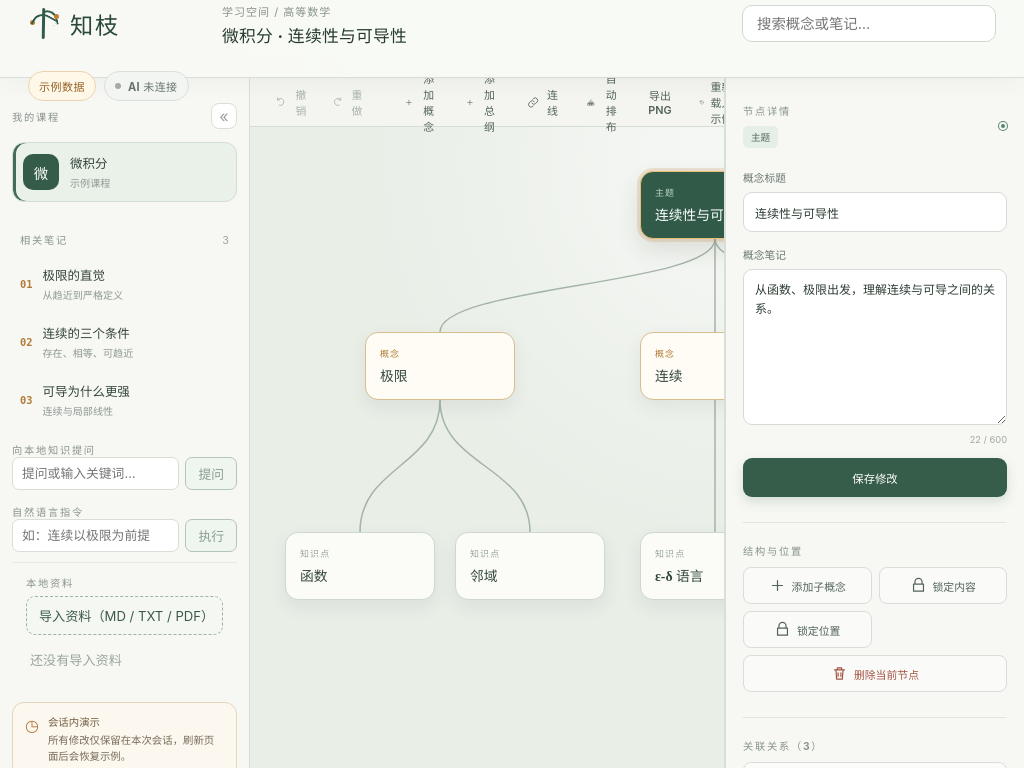
Test: knowledge tree workspace › moves a node, preserves a locked position during layout, and can reset demo
This screenshot has width=1024, height=768.
Press the mouse on the button "概念 极限" at (440, 366), box [365, 332, 515, 400]
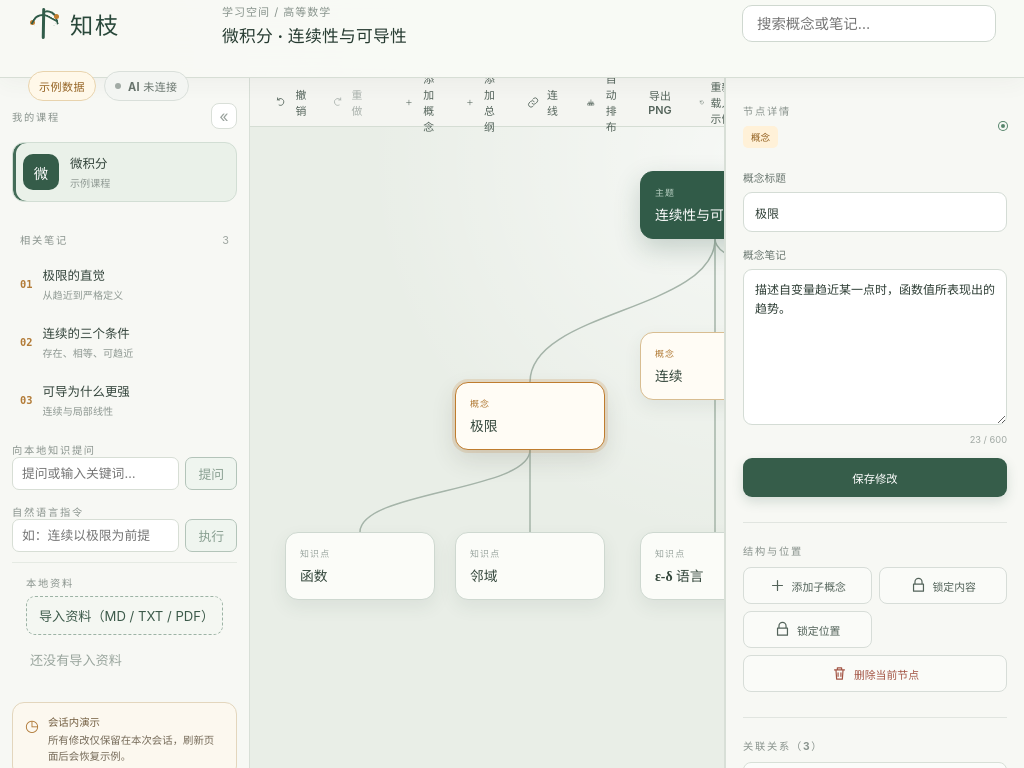
Click the button "锁定位置" at (807, 630), box [743, 611, 872, 648]
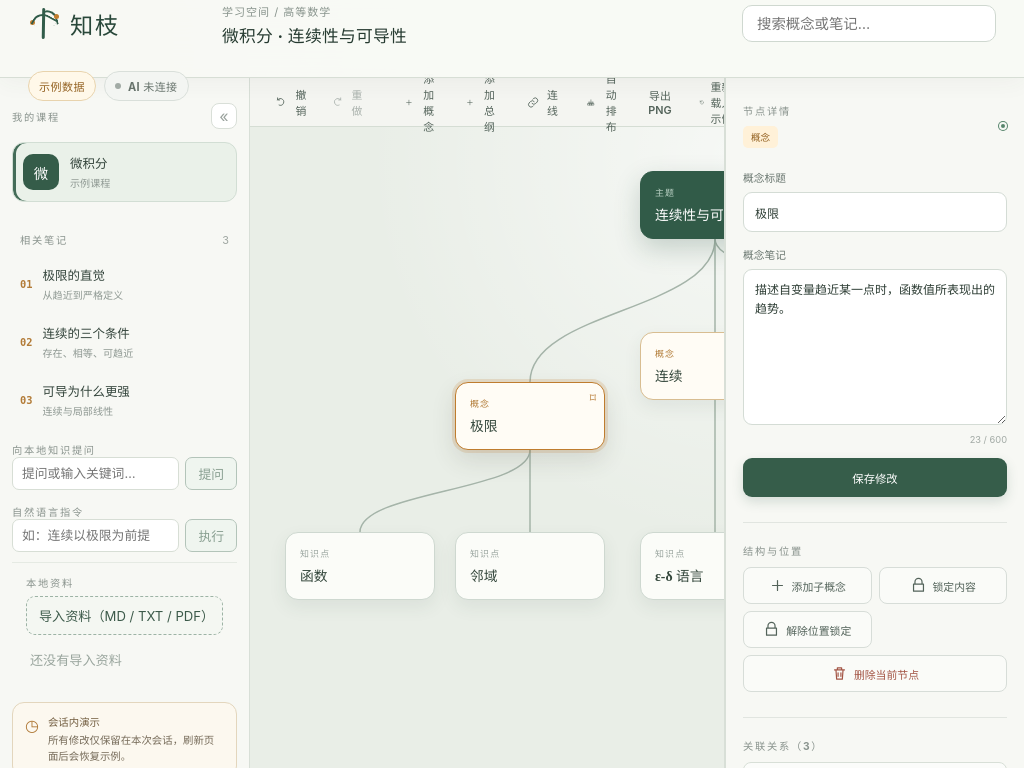
Click the button "自动排布" at (604, 102), box [577, 69, 631, 135]
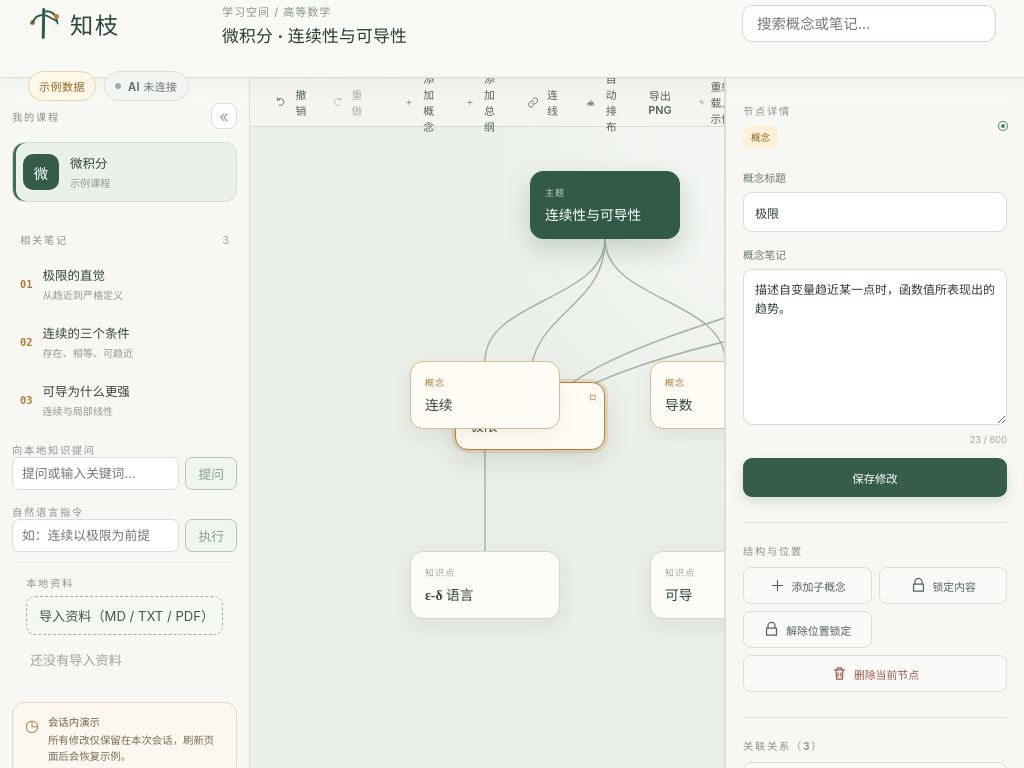
Click the button "重新载入示例" at (716, 102), box [689, 77, 743, 127]
(page scrolled)
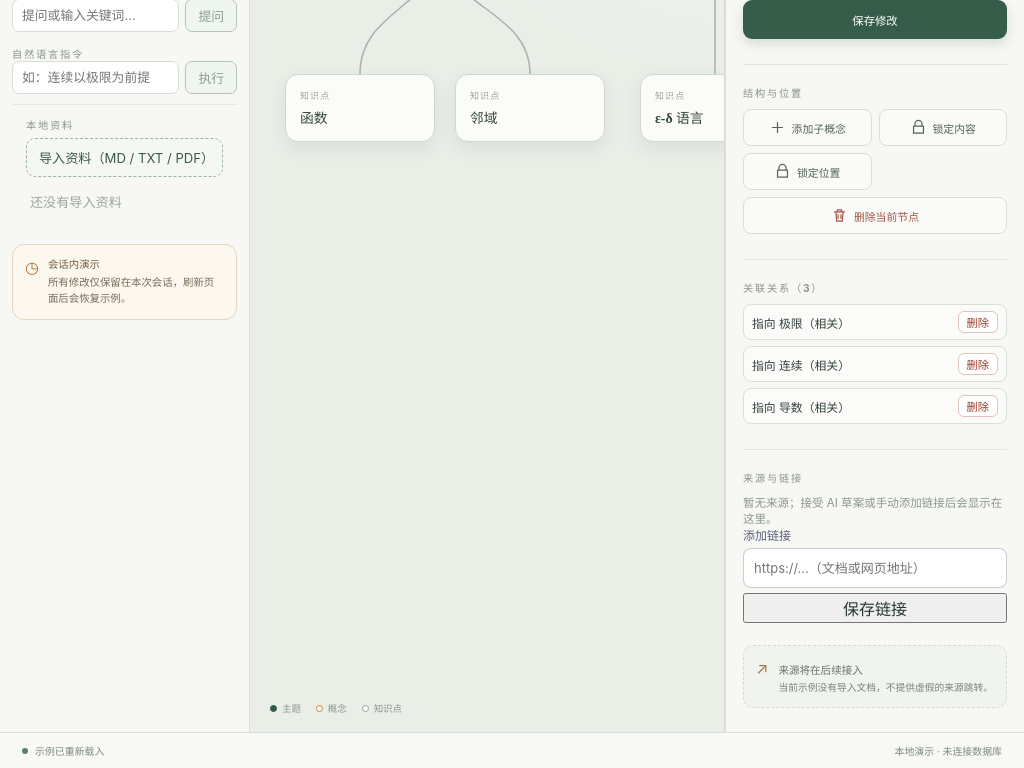
Result: the message reads "示例已重新载入" at [35, 746, 104, 758]
